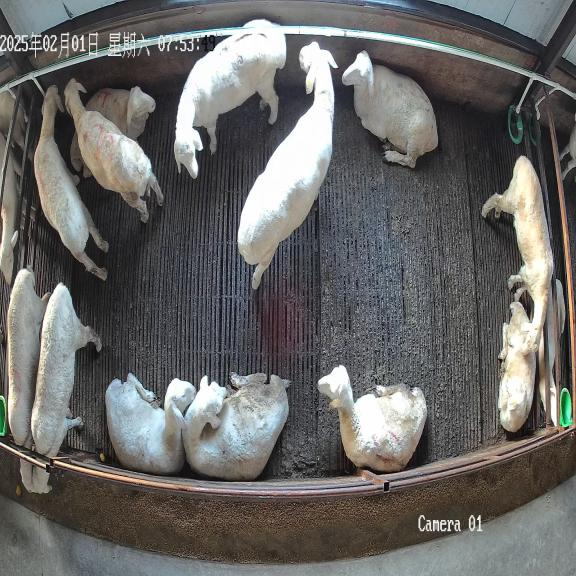eating: (31, 283, 101, 493), (7, 266, 50, 492)
lying: (318, 365, 427, 472), (182, 373, 288, 480), (342, 50, 438, 168), (106, 373, 196, 475), (71, 86, 155, 177), (498, 301, 536, 432)
stand: (237, 42, 338, 289), (174, 19, 286, 178), (482, 156, 553, 359), (34, 86, 108, 280), (65, 79, 163, 222)
